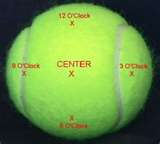tennis ball: (6, 3, 155, 139)
